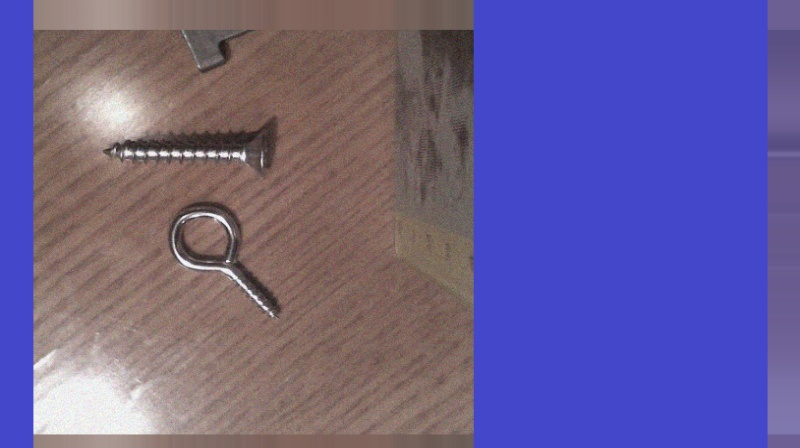O001: (164, 198, 285, 320)
O002: (156, 0, 345, 73)
S001: (101, 125, 273, 180)
